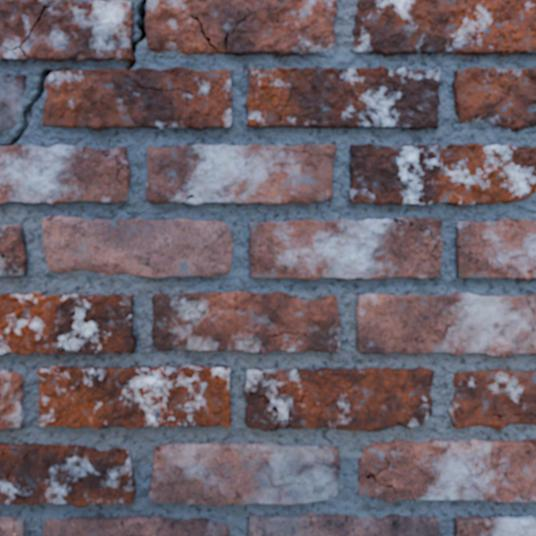brick: (38, 365, 230, 428), (246, 66, 439, 128), (245, 367, 432, 430), (149, 443, 339, 505), (43, 67, 231, 129), (43, 216, 232, 277), (249, 219, 441, 279), (145, 144, 335, 204), (152, 292, 340, 352), (357, 293, 535, 356), (349, 144, 535, 204), (358, 439, 535, 502), (146, 0, 335, 55), (352, 0, 535, 54), (0, 443, 134, 506), (0, 293, 135, 354), (0, 0, 132, 61), (0, 145, 129, 204), (449, 369, 535, 429), (452, 68, 535, 130), (456, 219, 535, 279), (248, 513, 438, 535), (43, 516, 229, 535), (455, 517, 535, 535), (0, 74, 25, 130), (0, 371, 23, 429), (0, 224, 26, 275), (399, 218, 441, 238), (0, 517, 24, 535), (0, 48, 14, 58), (15, 49, 26, 59), (528, 295, 535, 309)
crack: (0, 67, 67, 146), (0, 2, 50, 58), (389, 217, 443, 261), (366, 457, 414, 499), (124, 0, 147, 70), (256, 385, 278, 430), (284, 389, 307, 428), (102, 152, 129, 185), (278, 87, 292, 125), (0, 465, 15, 495), (501, 0, 518, 23), (525, 296, 535, 332), (164, 69, 187, 76), (182, 193, 195, 203)
